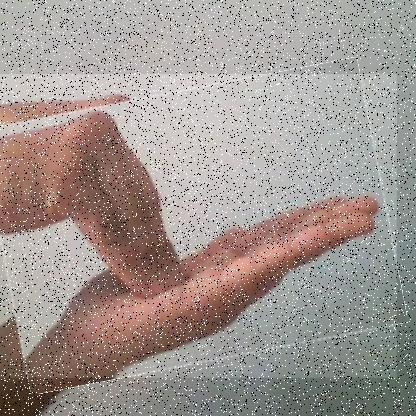Z: (0, 74, 398, 379)
